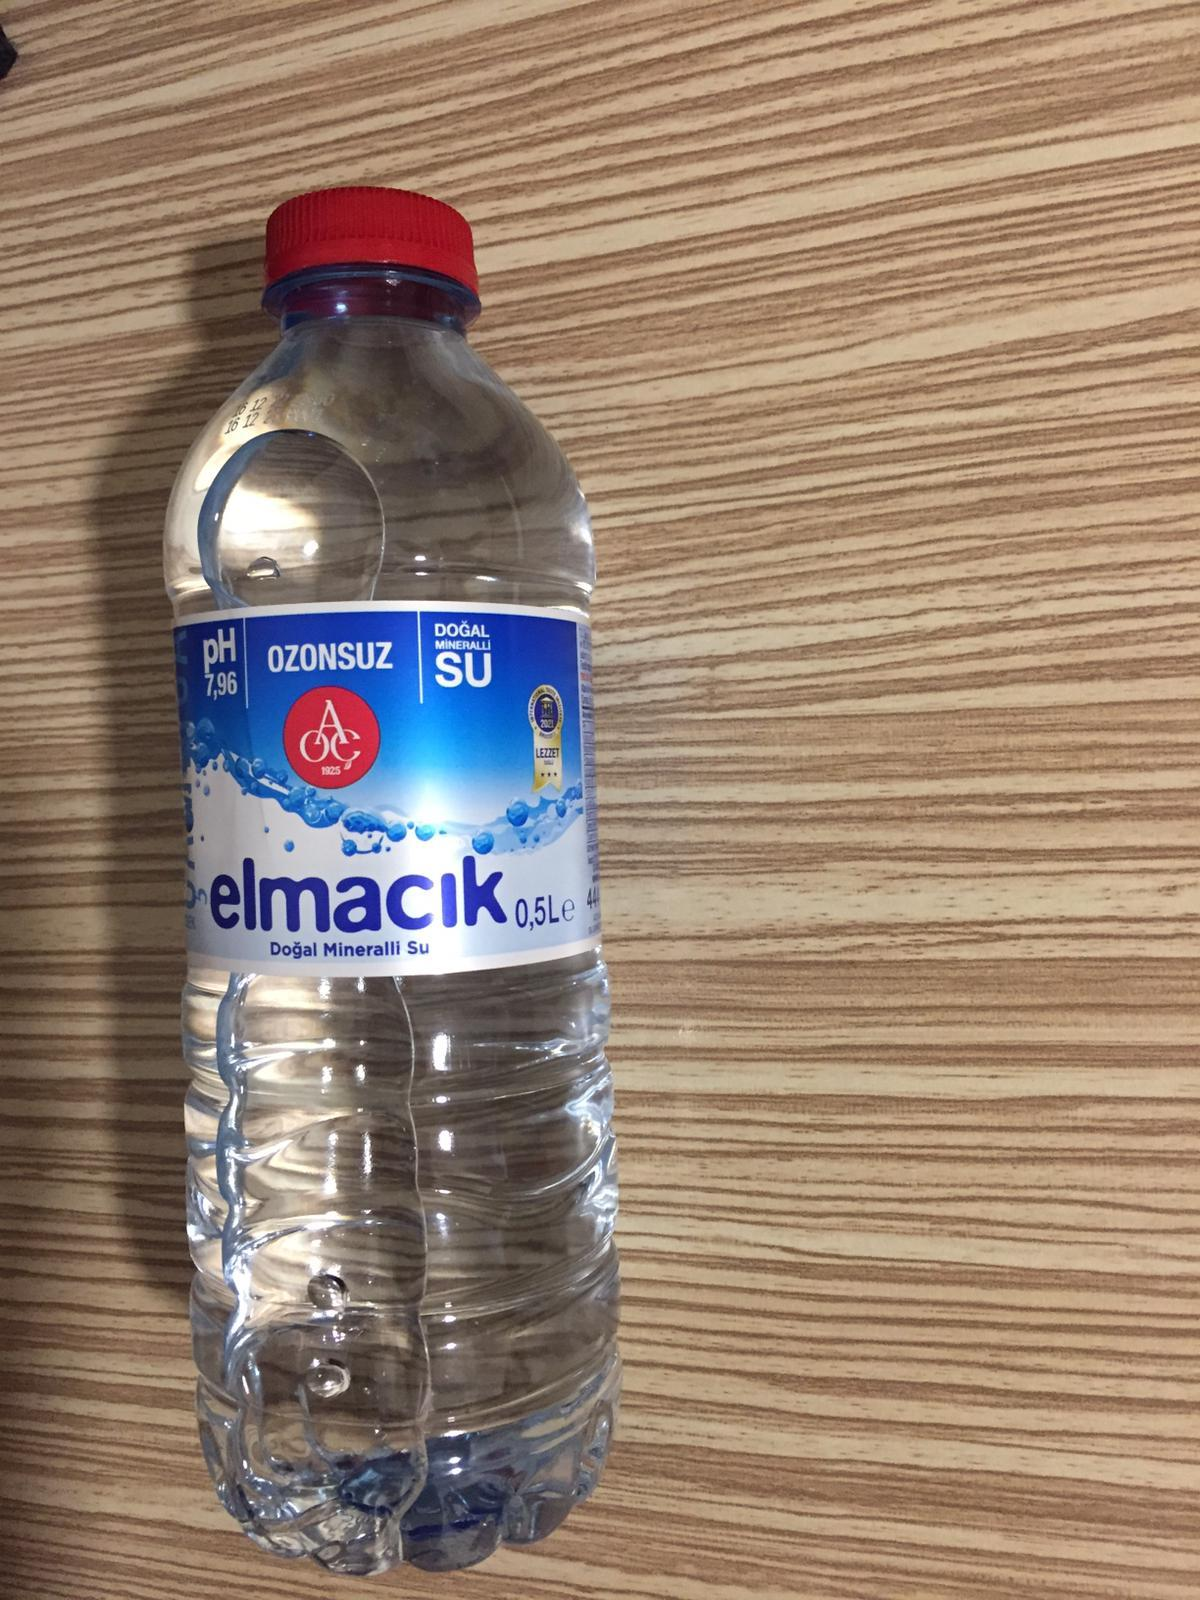bottle: (174, 175, 613, 1563)
